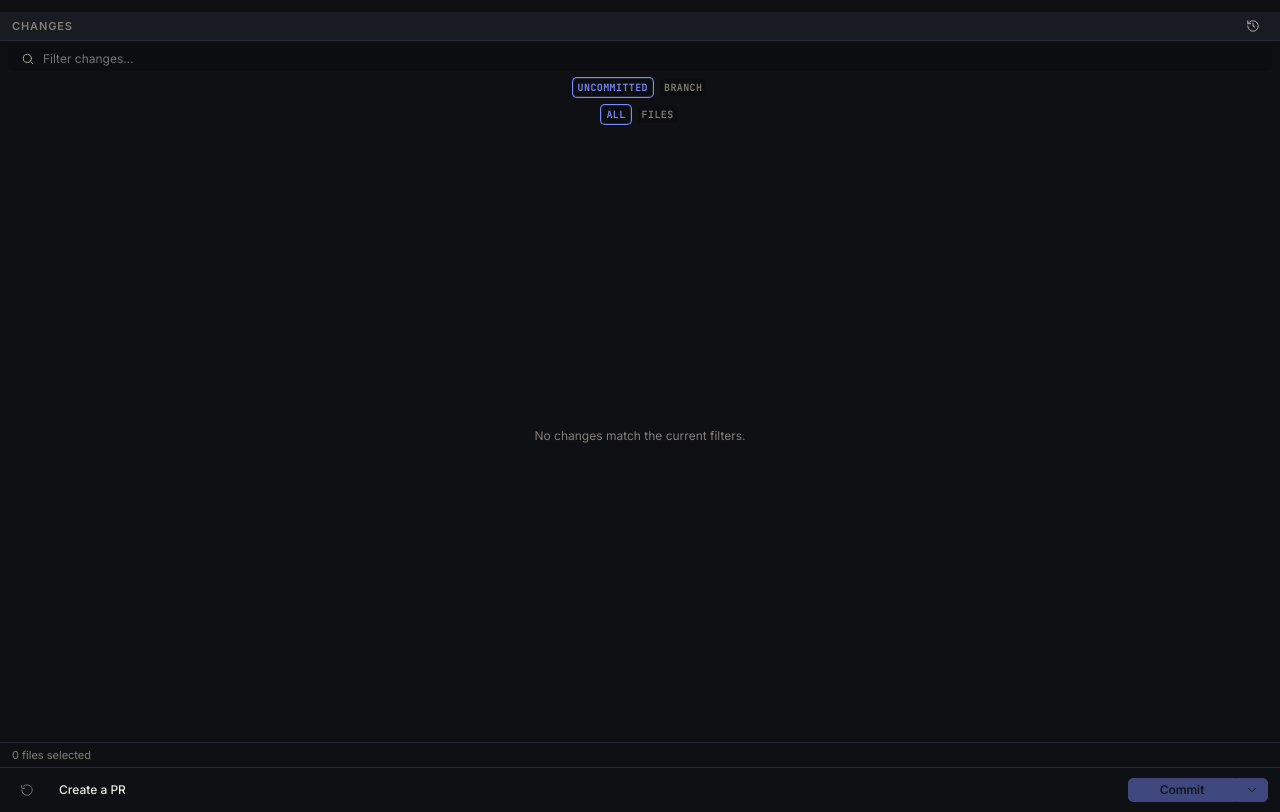
Test case: tree rendering › groups changed files per folder (CHG-FR-08)
This screenshot has width=1280, height=812.
What coordinates should you click on to do the following:
click the radio button labelled "Files"
I would click on:
 (658, 114)
Its box is [636, 104, 680, 125].
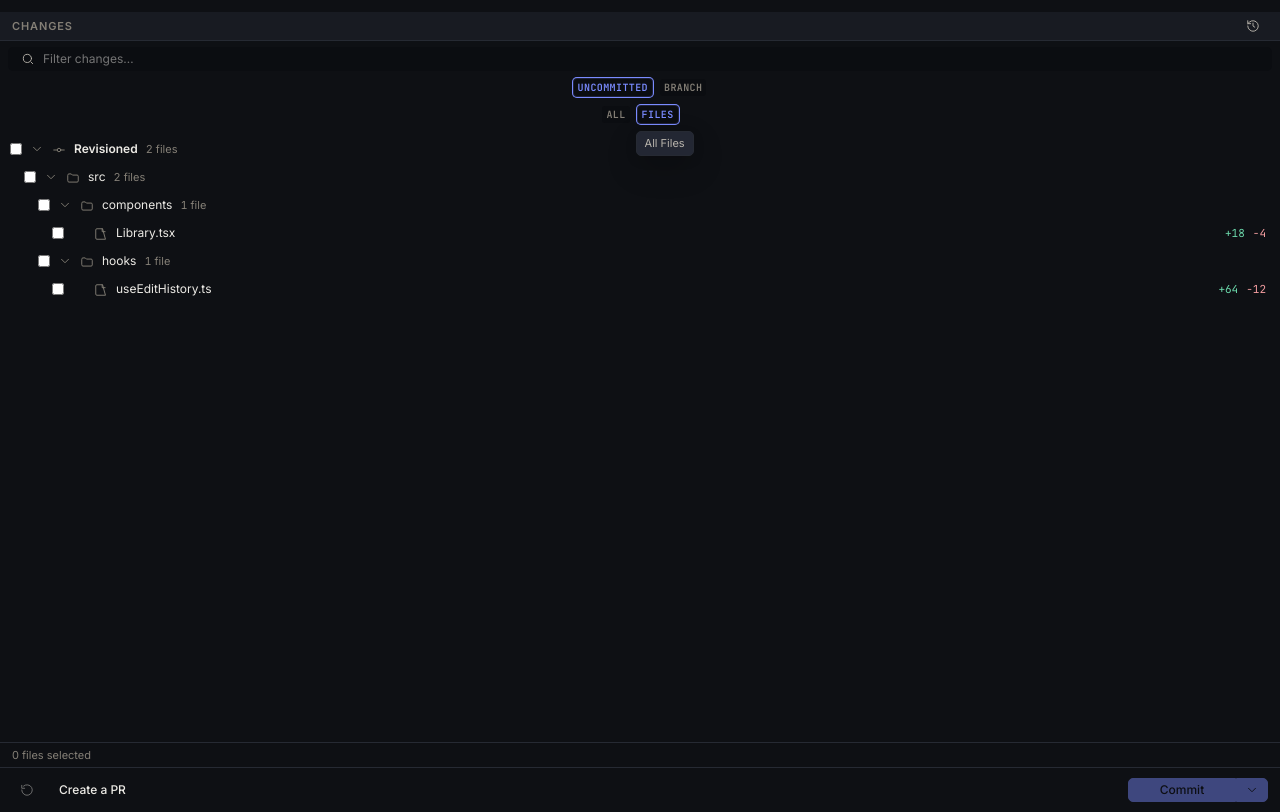
Check: the text "Library.tsx" is shown, box [116, 225, 175, 240]
